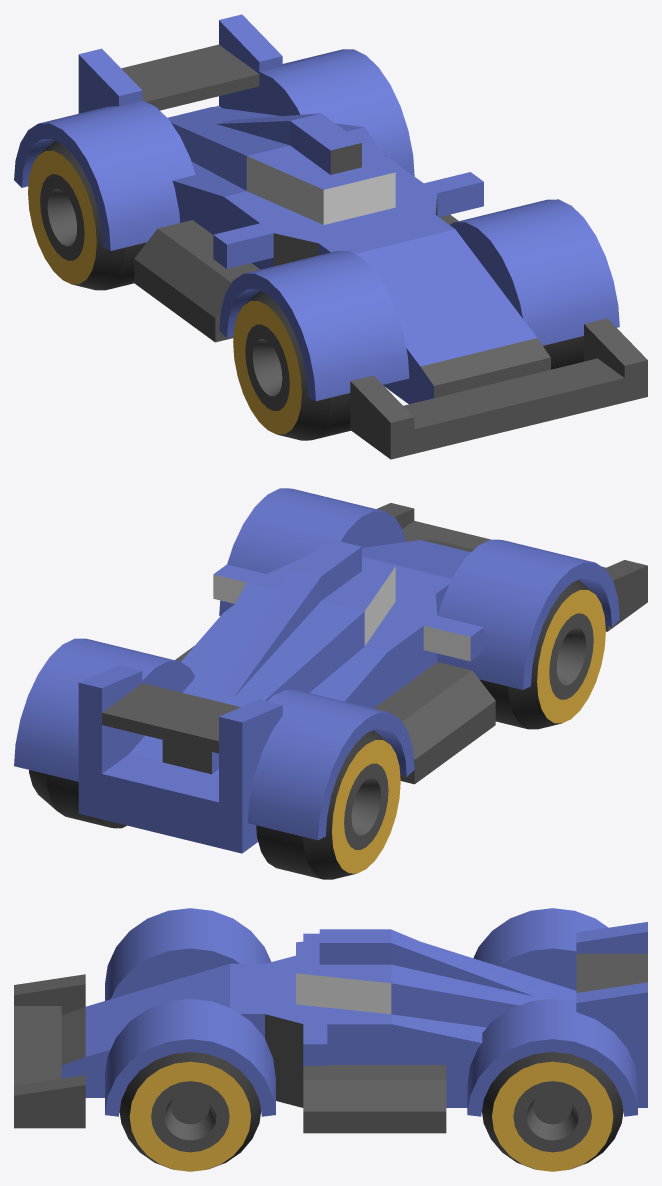
The model's file is raceFuture.fbx.
3 renders of one model, top to bottom at view 1: azimuth 30°, elevation 25°; view 2: azimuth 150°, elevation 25°; view 3: azimuth 270°, elevation 25°, orthographic. The views are drawn at different scales.
Parts seen in each view (by area): view 1: body, wheel_frontRight, wheel_backRight, wheel_frontLeft; view 2: body, wheel_backRight, wheel_frontRight, wheel_backLeft; view 3: body, wheel_frontLeft, wheel_backLeft.
Part boxes in pixels (<box>): body: <box>14,14,647,459</box>; wheel_frontRight: <box>233,291,350,440</box>; wheel_backRight: <box>28,140,146,290</box>; wheel_frontLeft: <box>543,336,583,369</box>; body: <box>14,488,647,853</box>; wheel_backRight: <box>256,730,400,879</box>; wheel_frontRight: <box>480,580,605,729</box>; wheel_backLeft: <box>29,770,126,828</box>; body: <box>14,908,647,1133</box>; wheel_frontLeft: <box>119,1052,260,1171</box>; wheel_backLeft: <box>482,1052,623,1171</box>.
Bounding box in the file's own units: 13 × 8.33 × 26.6.
